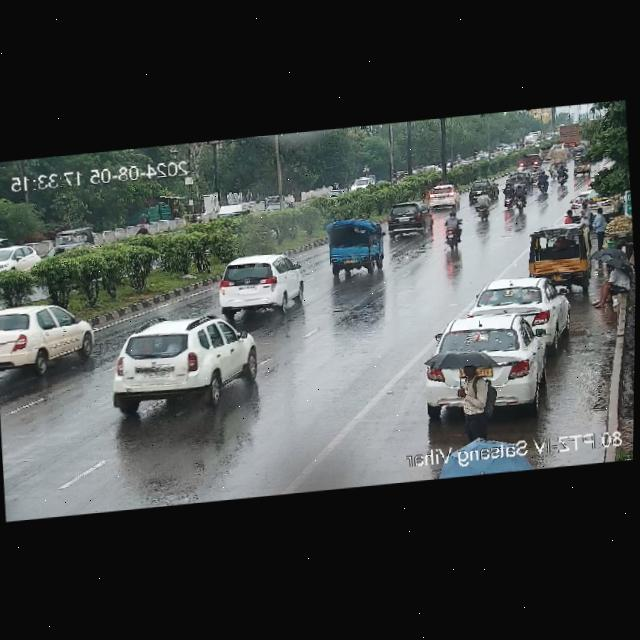car: (108, 314, 257, 412), (430, 323, 545, 410), (471, 276, 572, 346), (0, 300, 91, 364), (220, 253, 303, 308), (529, 227, 591, 283), (326, 220, 379, 274), (381, 199, 432, 234), (0, 240, 41, 269), (53, 226, 92, 250), (426, 185, 463, 209), (468, 180, 496, 196)
motorcycle: (442, 210, 461, 250), (476, 191, 493, 222), (509, 182, 527, 210), (533, 166, 549, 196)
person: (464, 365, 494, 445), (594, 265, 634, 309), (589, 208, 609, 250)
